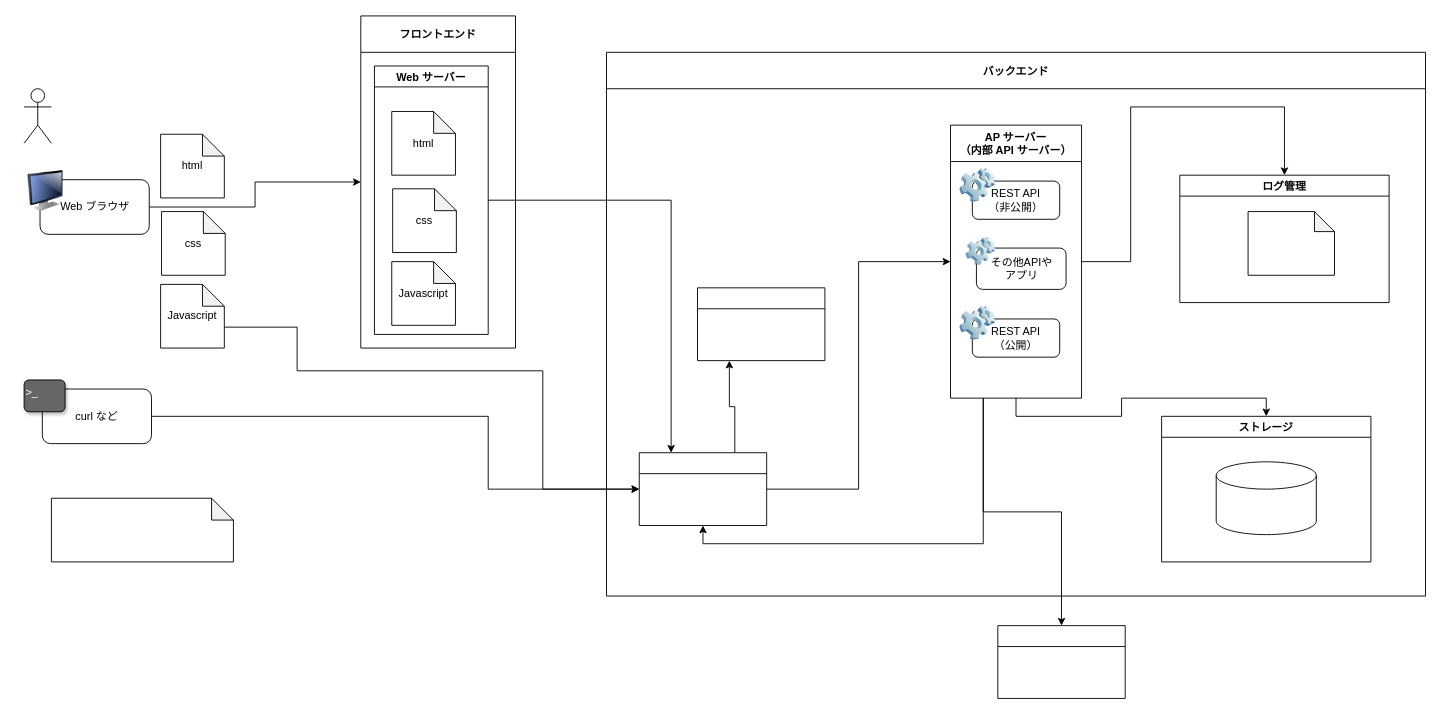
Some shapes in this 1441 by 714 pixel diagram are drawn without their labels. The shapes that lost their labels are listed below. From the top down, each one's centre as x and y in pixels, then its label:
the point at 37,115: ユーザー
the point at 1291,243: ログファイル
the point at 761,324: ユーザ管理
the point at 702,489: API Gateway
the point at 1265,498: DB
the point at 142,529: 設定ファイル （基本、全ての機能に含まれる）
the point at 1061,661: 外部 API サーバ
